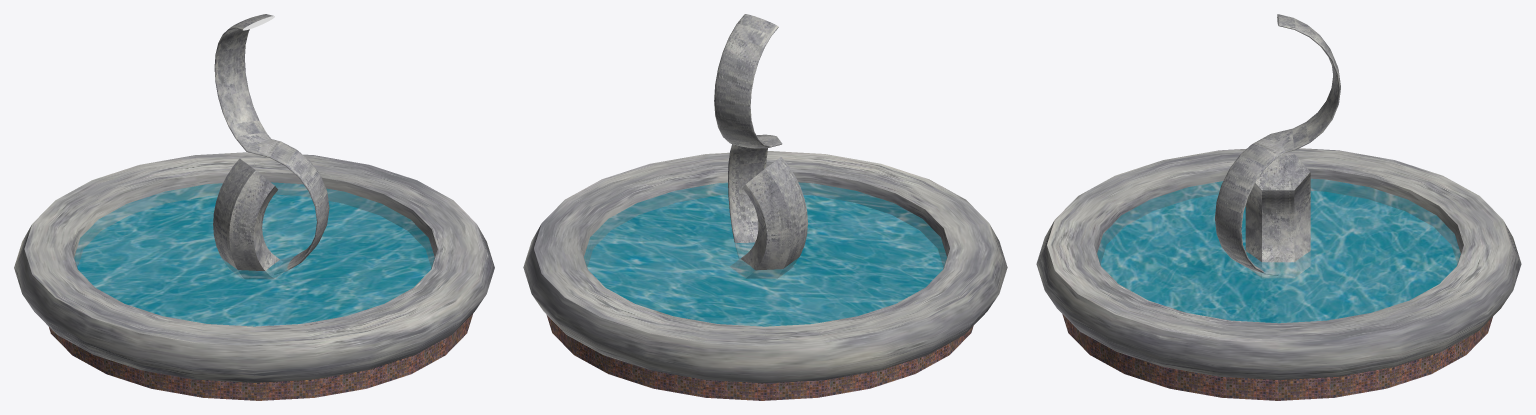
The model's file is Fuente.FBX.
The picture shows the model from 3 angles, left to right: view 1: azimuth 30°, elevation 25°; view 2: azimuth 150°, elevation 25°; view 3: azimuth 270°, elevation 25°; orthographic projection.
Parts seen in each view (by area): view 1: Layer0_002, Tube002; view 2: Layer0_002, Tube002; view 3: Layer0_002, Tube002.
Boxes of the visible parts, box(x1,y1,x2,y2) form: Layer0_002: box(49, 14, 473, 400); Tube002: box(14, 152, 494, 382); Layer0_002: box(546, 14, 973, 400); Tube002: box(523, 151, 1007, 383); Layer0_002: box(1062, 14, 1492, 400); Tube002: box(1036, 148, 1521, 379).
Size of the model in its own units: 167 by 111 by 167.
Materials: 6 (5 with a texture image).
